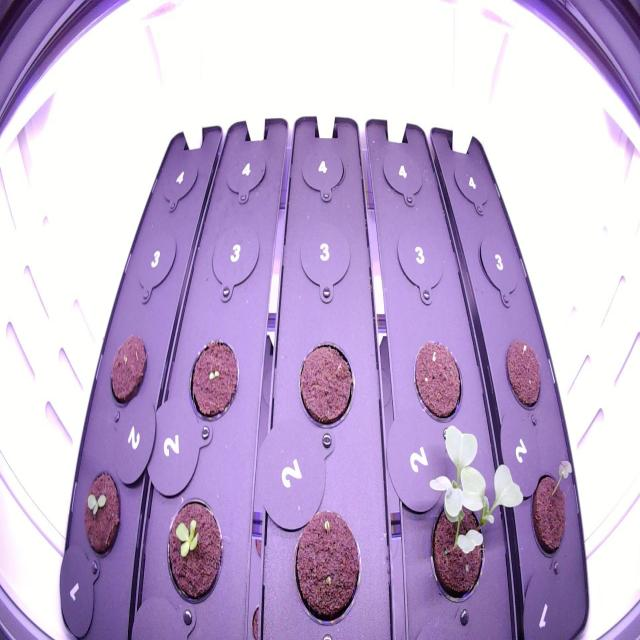empty_pod: (295, 215, 356, 301), (390, 221, 449, 304), (208, 215, 266, 299), (474, 228, 528, 306), (218, 140, 271, 210), (130, 224, 180, 298), (376, 141, 427, 212), (446, 146, 495, 217), (299, 140, 348, 203), (158, 150, 204, 212)
germination: (526, 440, 584, 576), (182, 332, 245, 434), (75, 460, 133, 567)
pod: (284, 498, 367, 630), (291, 333, 359, 433), (409, 332, 474, 432), (103, 324, 154, 414), (497, 328, 548, 417)
young: (158, 489, 226, 612)
